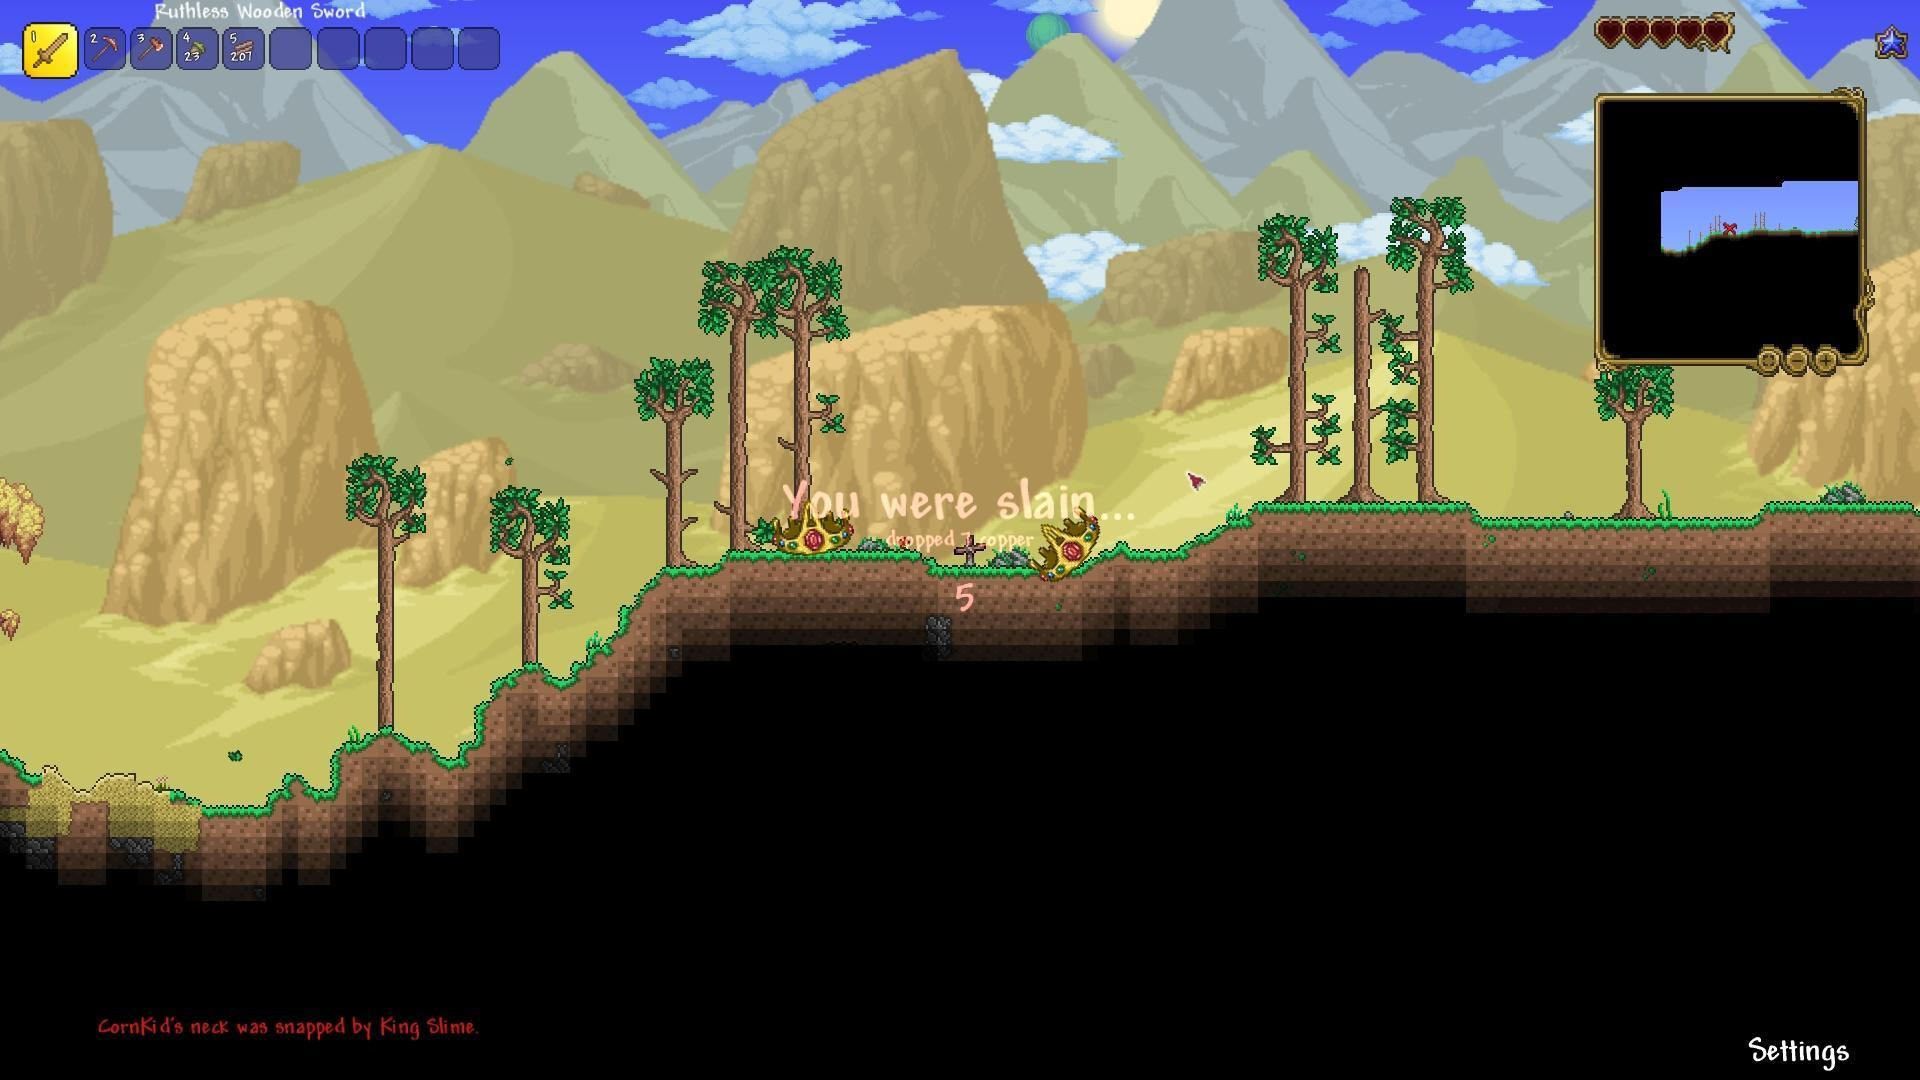wood: (229, 32, 255, 65)
